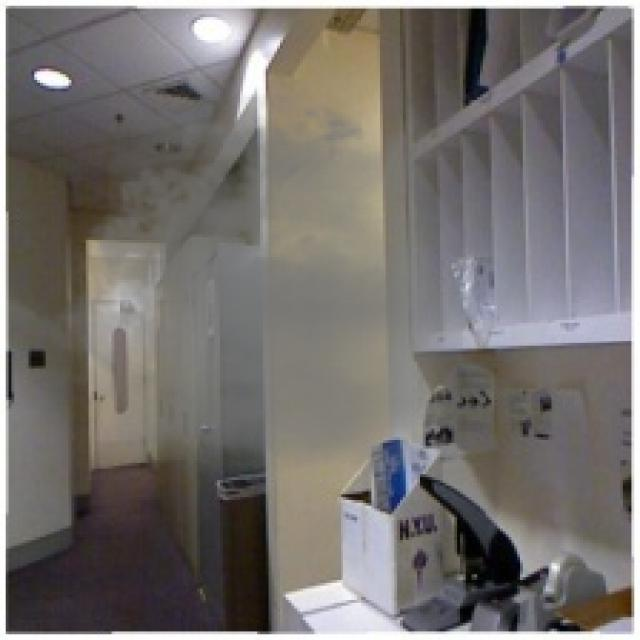smoke: (37, 94, 463, 474)
